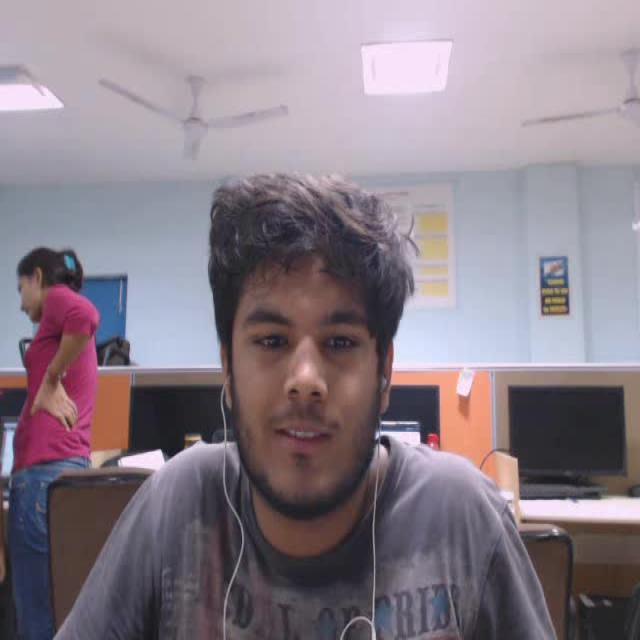Engaged: (191, 142, 438, 536)
